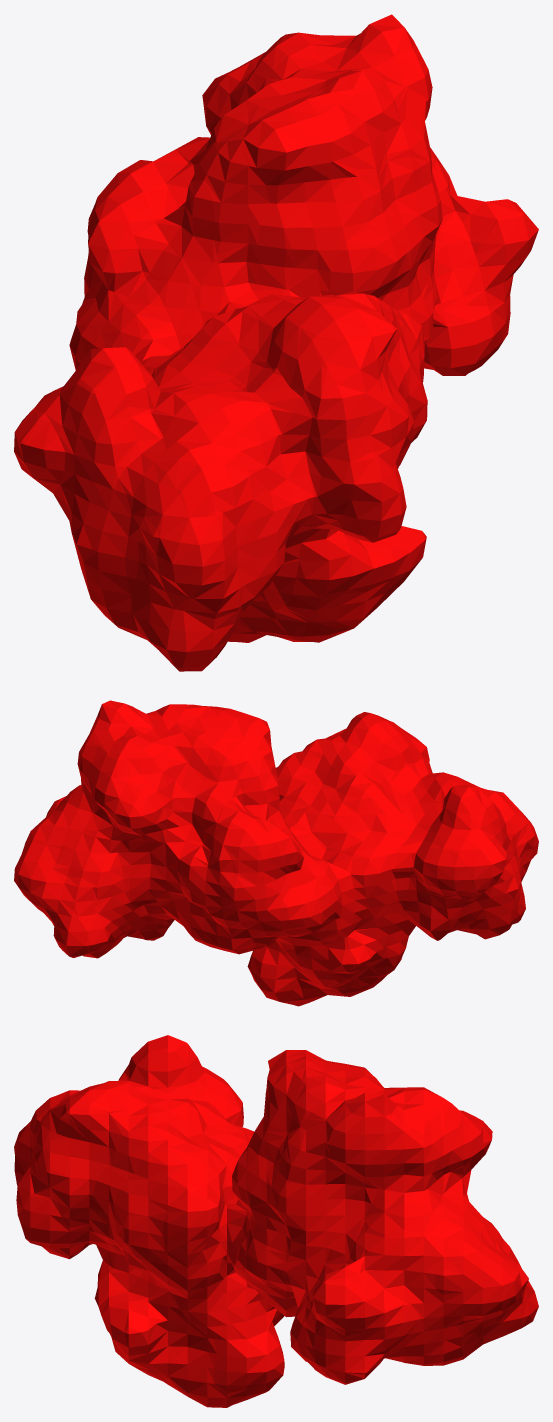
The model's file is Ras_related_protein_Rab_35_coarse.dae.
3 renders of one model, top to bottom at view 1: azimuth 30°, elevation 25°; view 2: azimuth 150°, elevation 25°; view 3: azimuth 270°, elevation 25°, orthographic. The views are drawn at different scales.
Parts seen in each view (by area): view 1: Ras_related_protein_Rab_35; view 2: Ras_related_protein_Rab_35; view 3: Ras_related_protein_Rab_35.
Part boxes in pixels (x1,y1,x2,y2): Ras_related_protein_Rab_35: [14, 14, 538, 671]; Ras_related_protein_Rab_35: [14, 700, 538, 1006]; Ras_related_protein_Rab_35: [14, 1035, 538, 1407].
Size of the model in its own units: 112 by 86.93 by 108.
